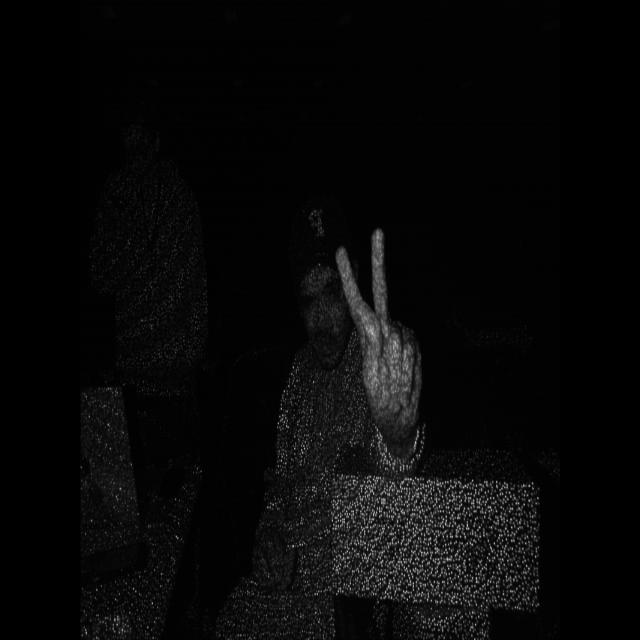V: (328, 207, 440, 469)
